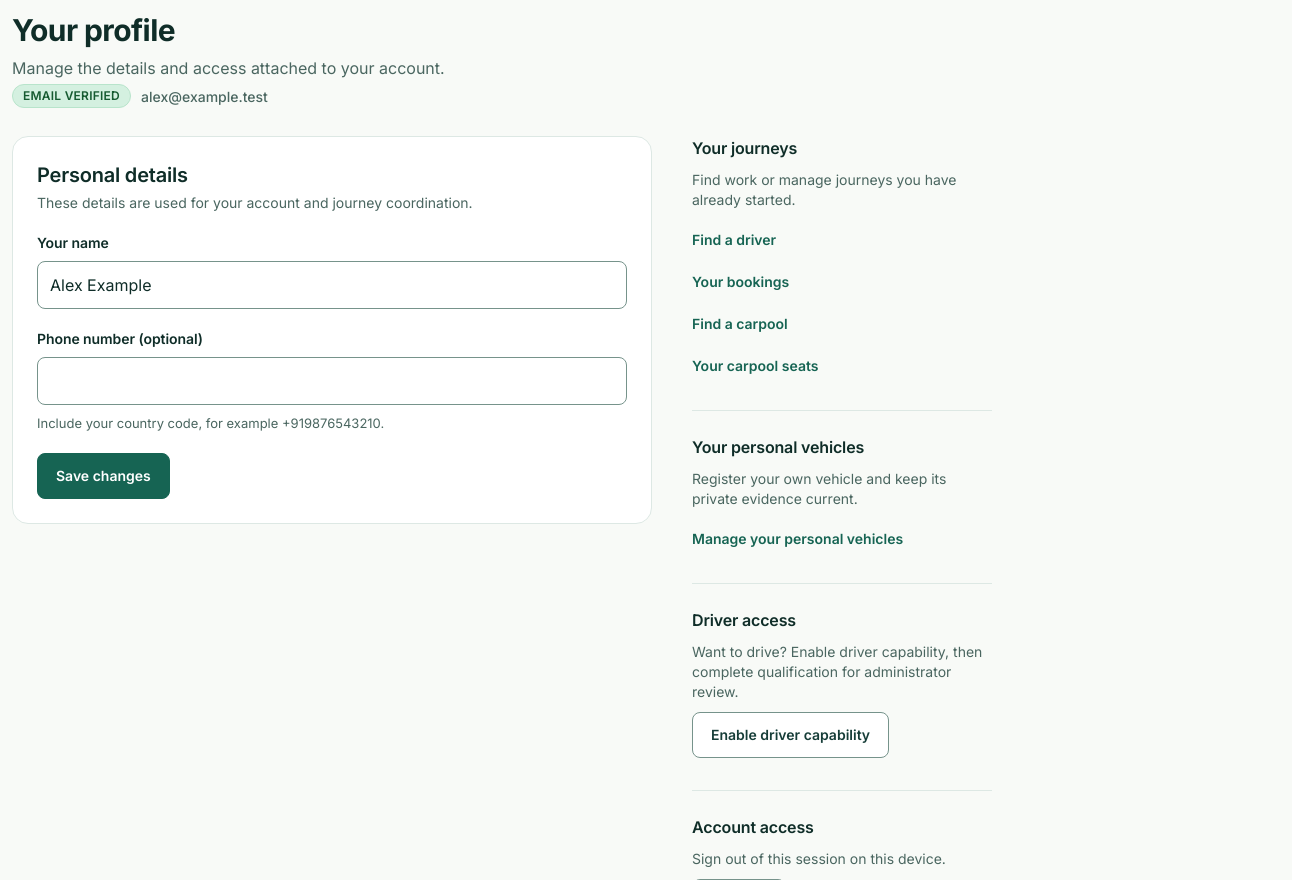
saves edited personal details and reports success
Replace the text in the field labelled "Your name" with "Alex Updated". click: (332, 285)
box: [37,261,627,309]
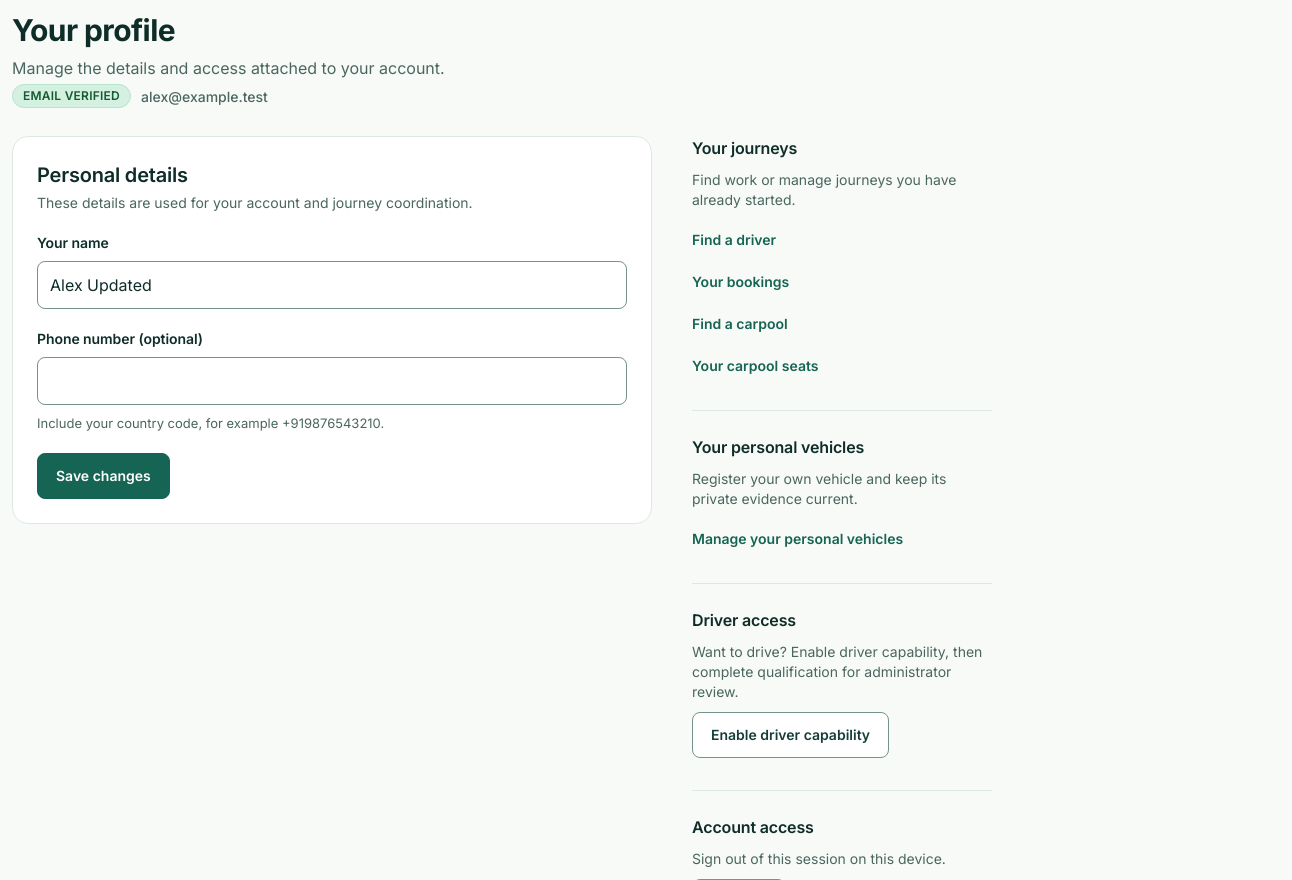
Type "+919876543210" into the field labelled "Phone number (optional)". click: (332, 381)
box: [37,357,627,405]
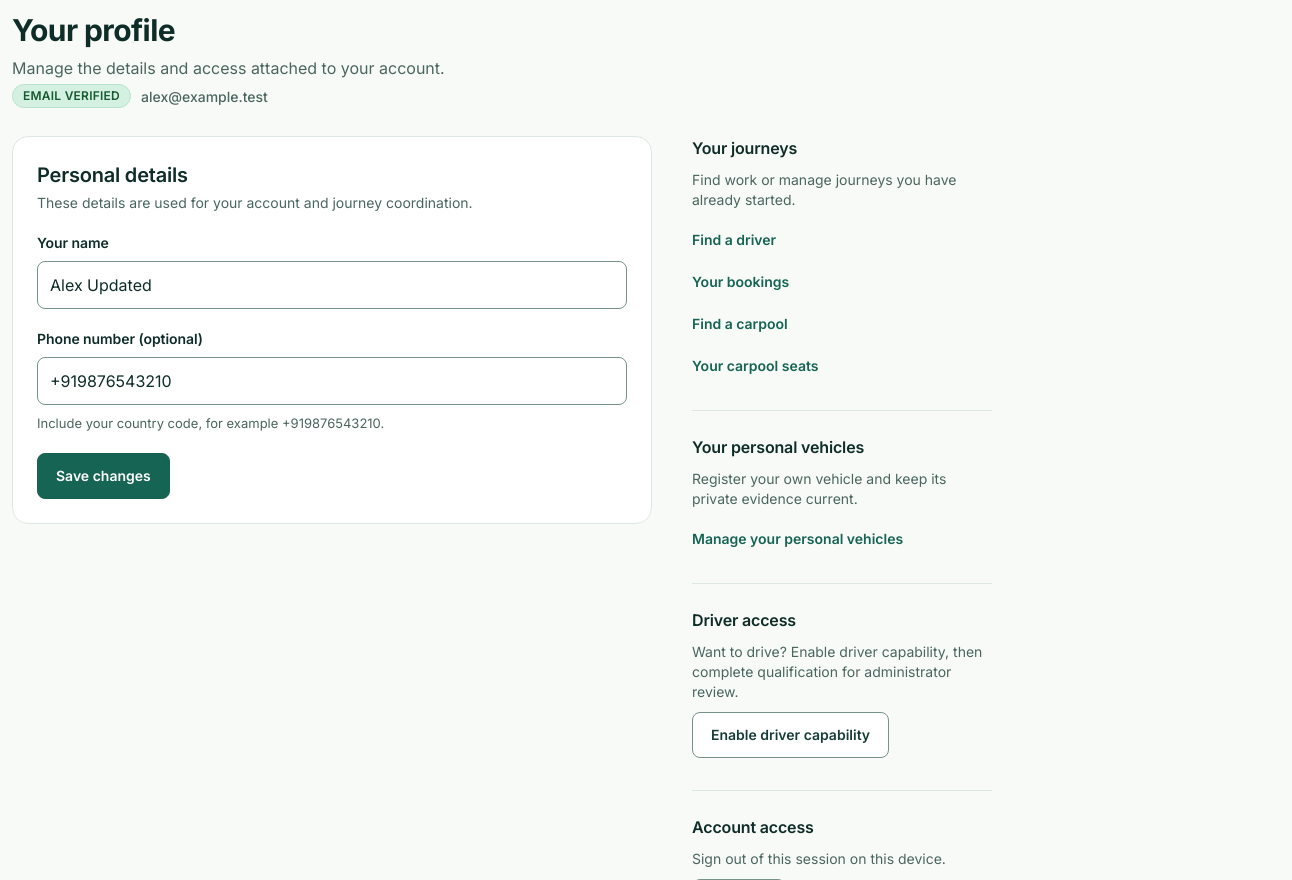
Click the button "Save changes". click: (103, 476)
box: [37,453,170,499]
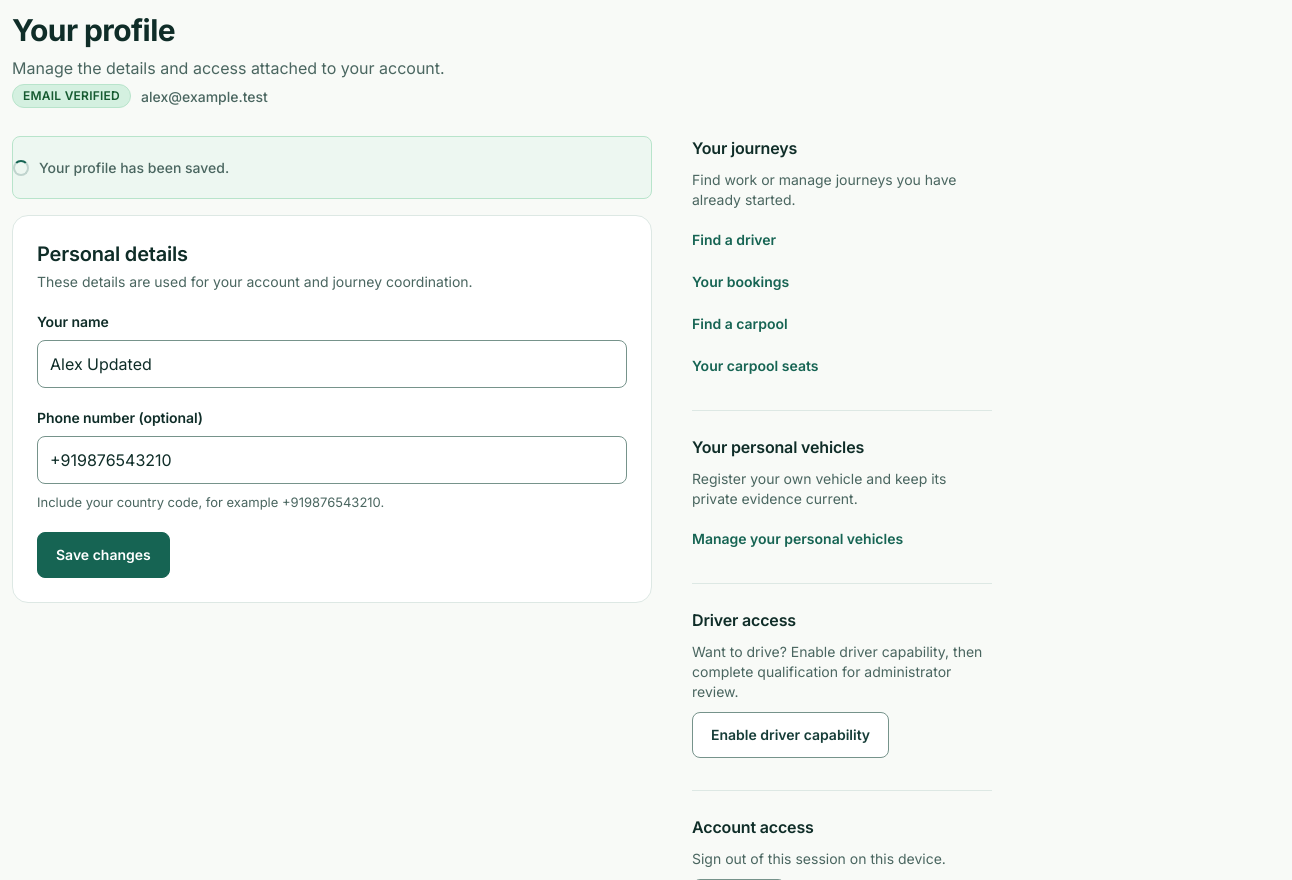
Expected: the text "Your profile has been saved." is shown, [12,136,652,199]
